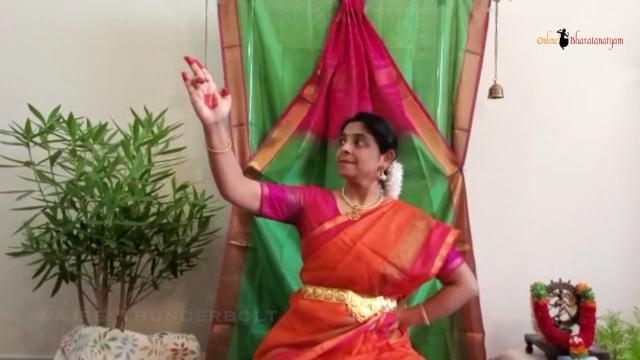tripataka: (154, 45, 246, 135)
